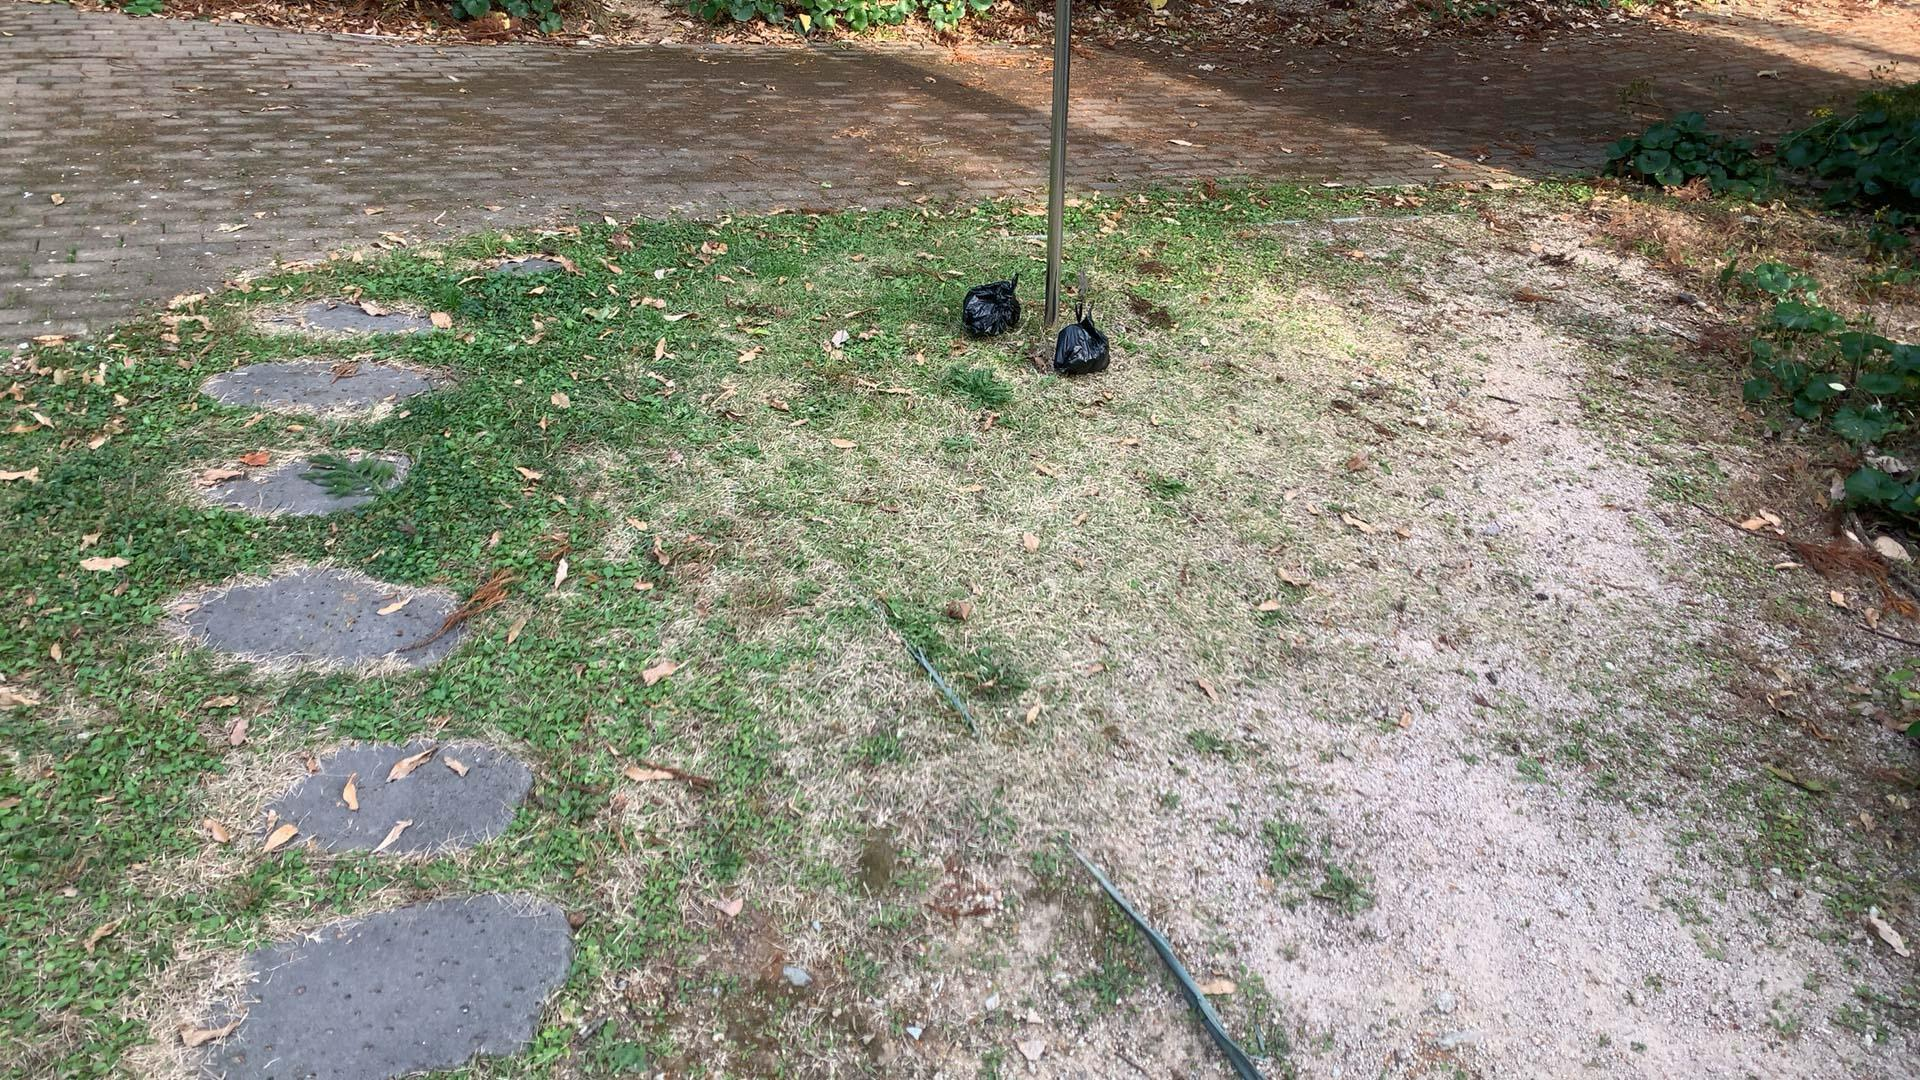black_bag: (1051, 297, 1110, 376), (959, 270, 1025, 334)
